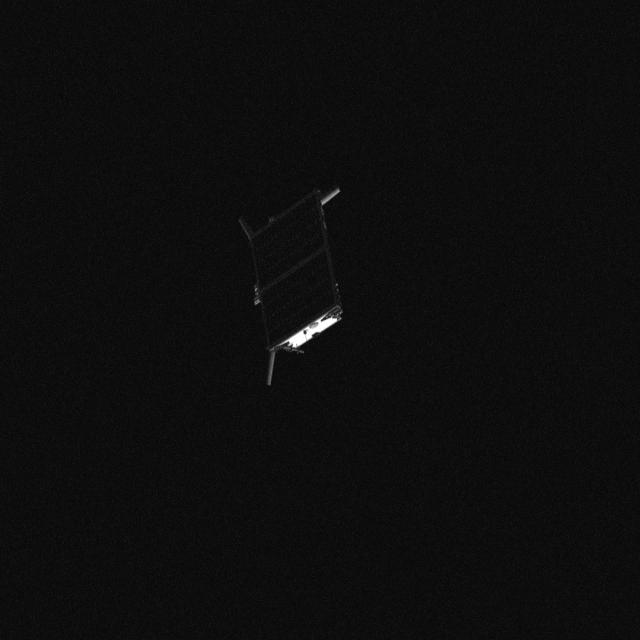medium_debris: (228, 178, 350, 390)
